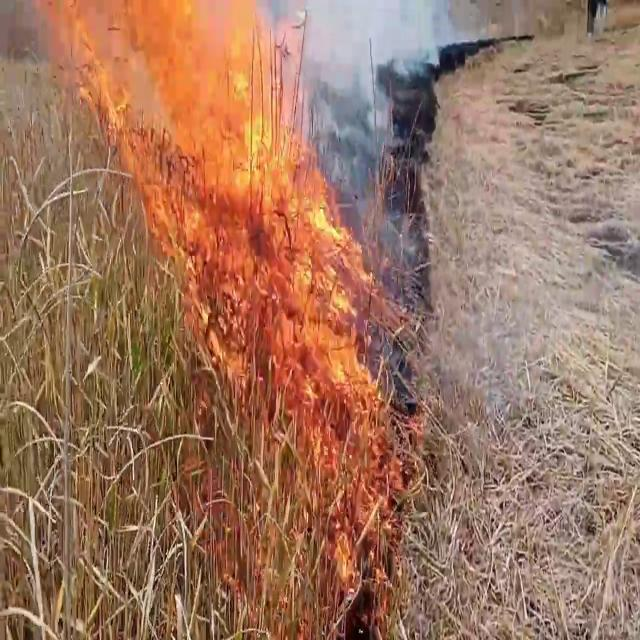Fire: (55, 0, 374, 380)
